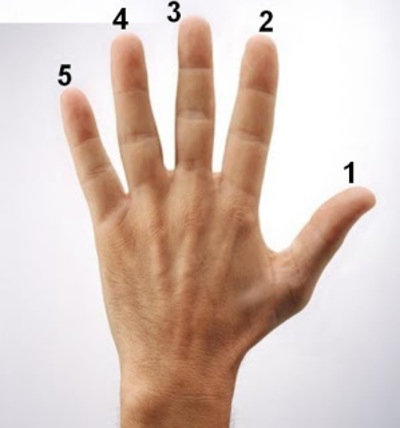mindinho: (49, 79, 129, 229)
